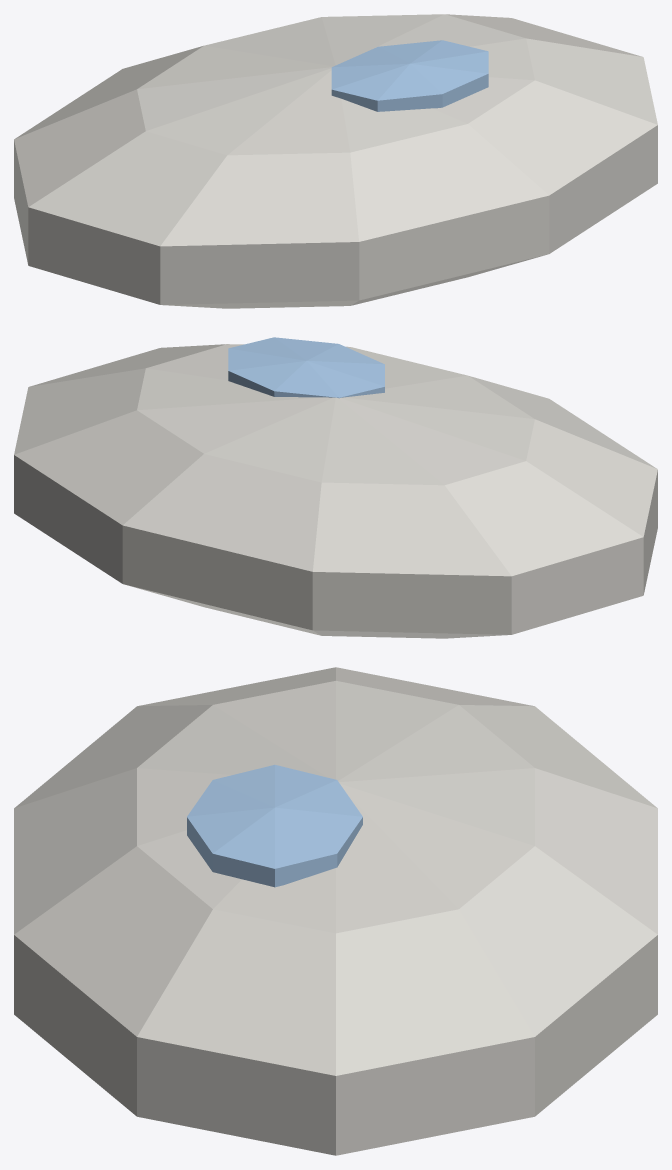
Rendered from drooly_pillow.glb.
The picture shows the model from 3 angles, top to bottom: view 1: azimuth 30°, elevation 25°; view 2: azimuth 150°, elevation 25°; view 3: azimuth 270°, elevation 25°; orthographic projection. The views are drawn at different scales.
Visible parts, largest first — view 1: pillow_pillow_white, drool_drool_blue; view 2: pillow_pillow_white, drool_drool_blue; view 3: pillow_pillow_white, drool_drool_blue.
Boxes of the visible parts, left/top/right/bottom form: pillow_pillow_white: left=14, top=14, right=657, bottom=308; drool_drool_blue: left=331, top=40, right=488, bottom=111; pillow_pillow_white: left=14, top=344, right=657, bottom=638; drool_drool_blue: left=228, top=337, right=384, bottom=398; pillow_pillow_white: left=14, top=667, right=657, bottom=1155; drool_drool_blue: left=187, top=764, right=362, bottom=887.
Size of the model in its own units: 0.4755 by 0.145 by 0.3166.
